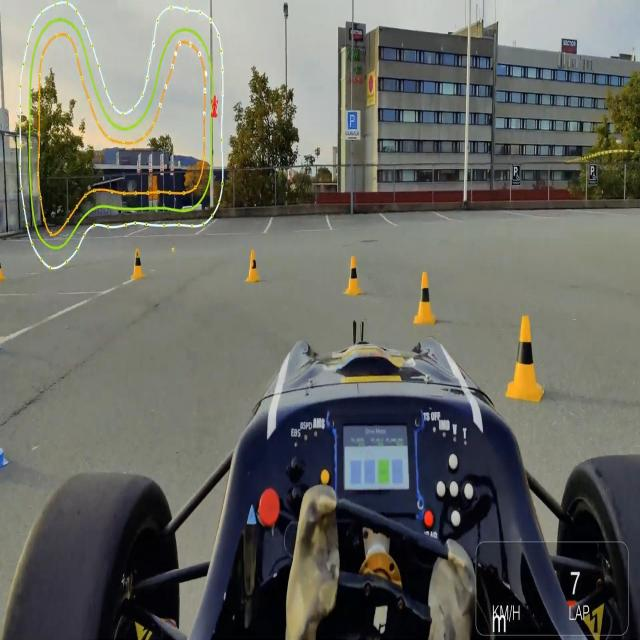yellow_cone: (507, 316, 544, 403), (414, 272, 436, 326), (347, 255, 362, 296), (245, 247, 261, 284), (132, 249, 145, 282)
